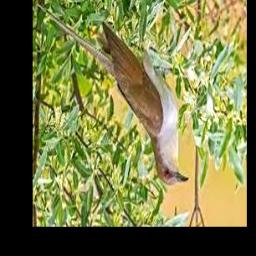Cuckoo: (38, 3, 190, 186)
